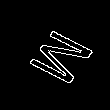M_SE: (15, 22, 95, 88)
